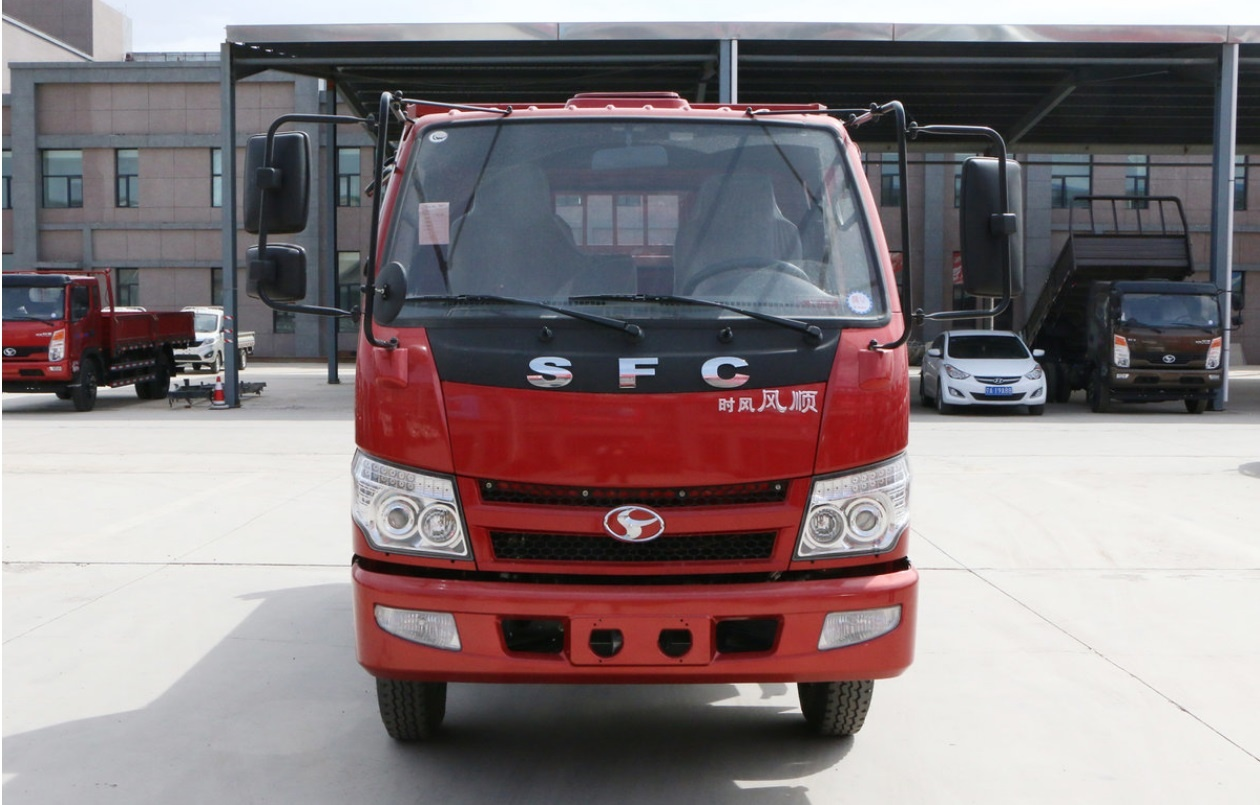truck: (286, 61, 990, 759)
